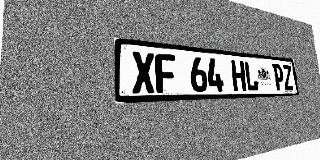4: (206, 58, 224, 92)
6: (189, 56, 208, 92)
F: (155, 53, 177, 93)
H: (231, 60, 247, 91)
L: (244, 61, 259, 91)
P: (272, 64, 285, 91)
X: (131, 51, 156, 93)
Z: (282, 65, 294, 90)
